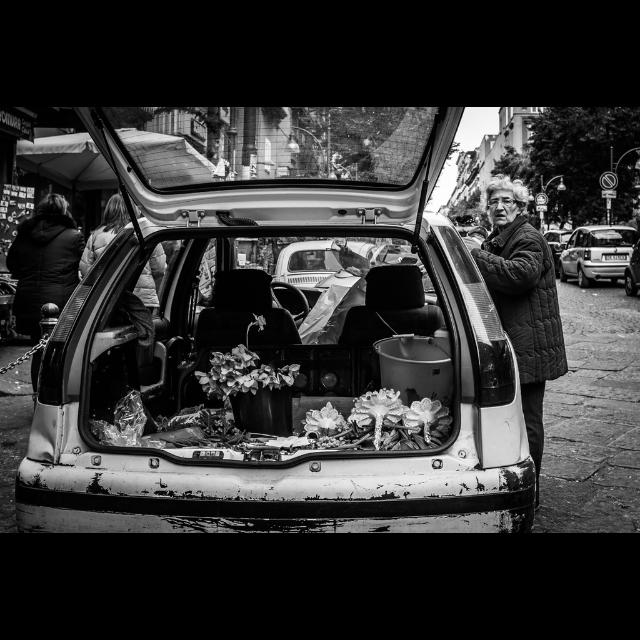Flower: (198, 344, 278, 408), (348, 389, 408, 445), (398, 396, 460, 442), (300, 403, 350, 435)
